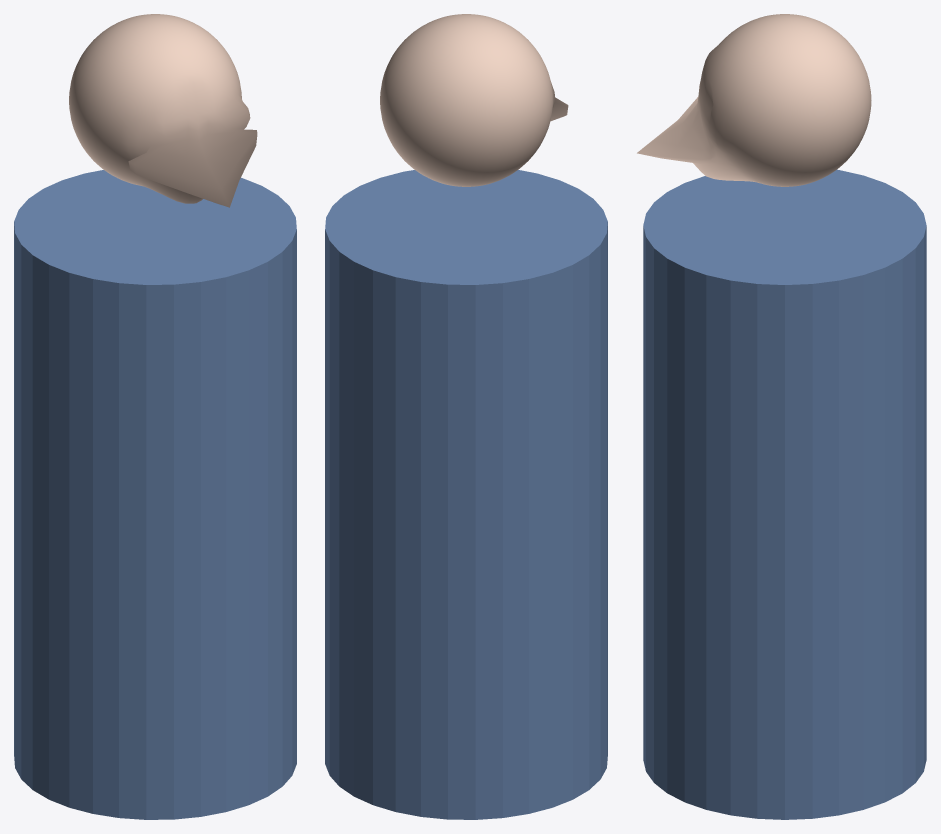
Rendered from arkit-test-head.glb.
The picture shows the model from 3 angles, left to right: view 1: azimuth 30°, elevation 25°; view 2: azimuth 150°, elevation 25°; view 3: azimuth 270°, elevation 25°; orthographic projection.
Parts seen in each view (by area): view 1: Body, Head; view 2: Body, Head; view 3: Body, Head.
Boxes of the visible parts, x1,y1,x2,y2 form: Body: [14, 170, 296, 819]; Head: [69, 14, 257, 207]; Body: [325, 170, 607, 819]; Head: [380, 14, 568, 186]; Body: [643, 169, 926, 819]; Head: [637, 14, 871, 186].
Size of the model in its own units: 0.36 by 1.03 by 0.3688.
